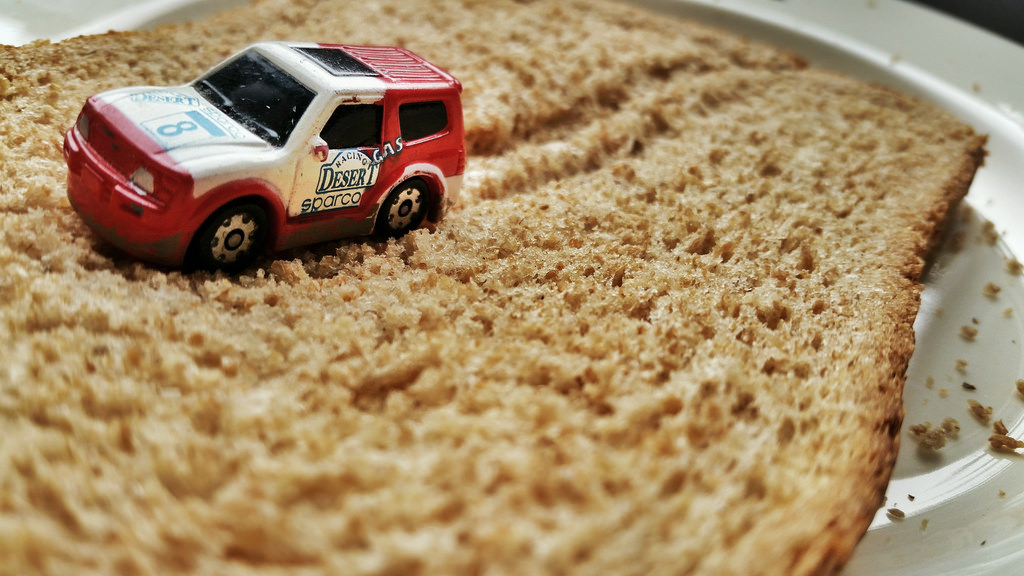slice of bread: (1, 10, 979, 566)
